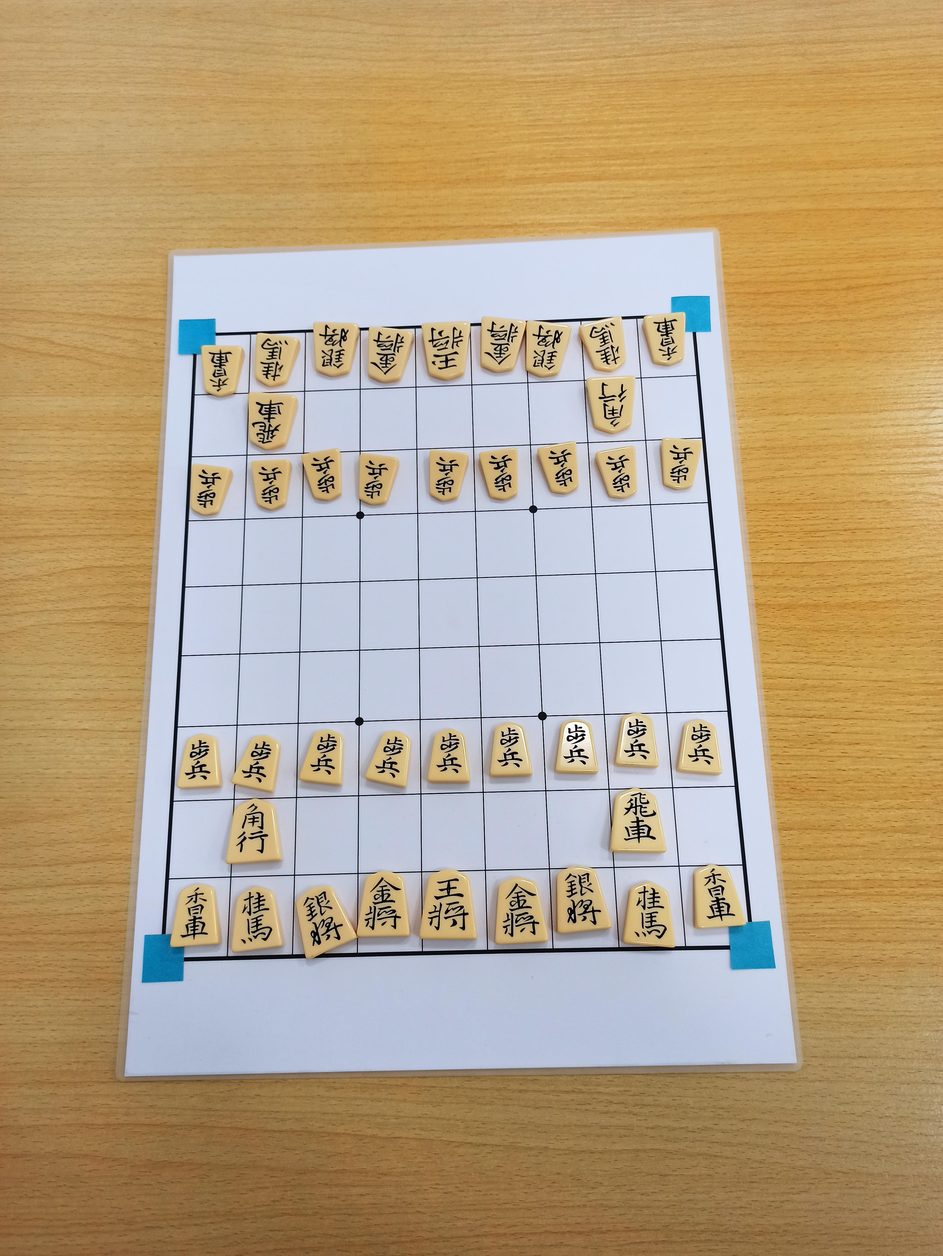board: (161, 315, 750, 960)
